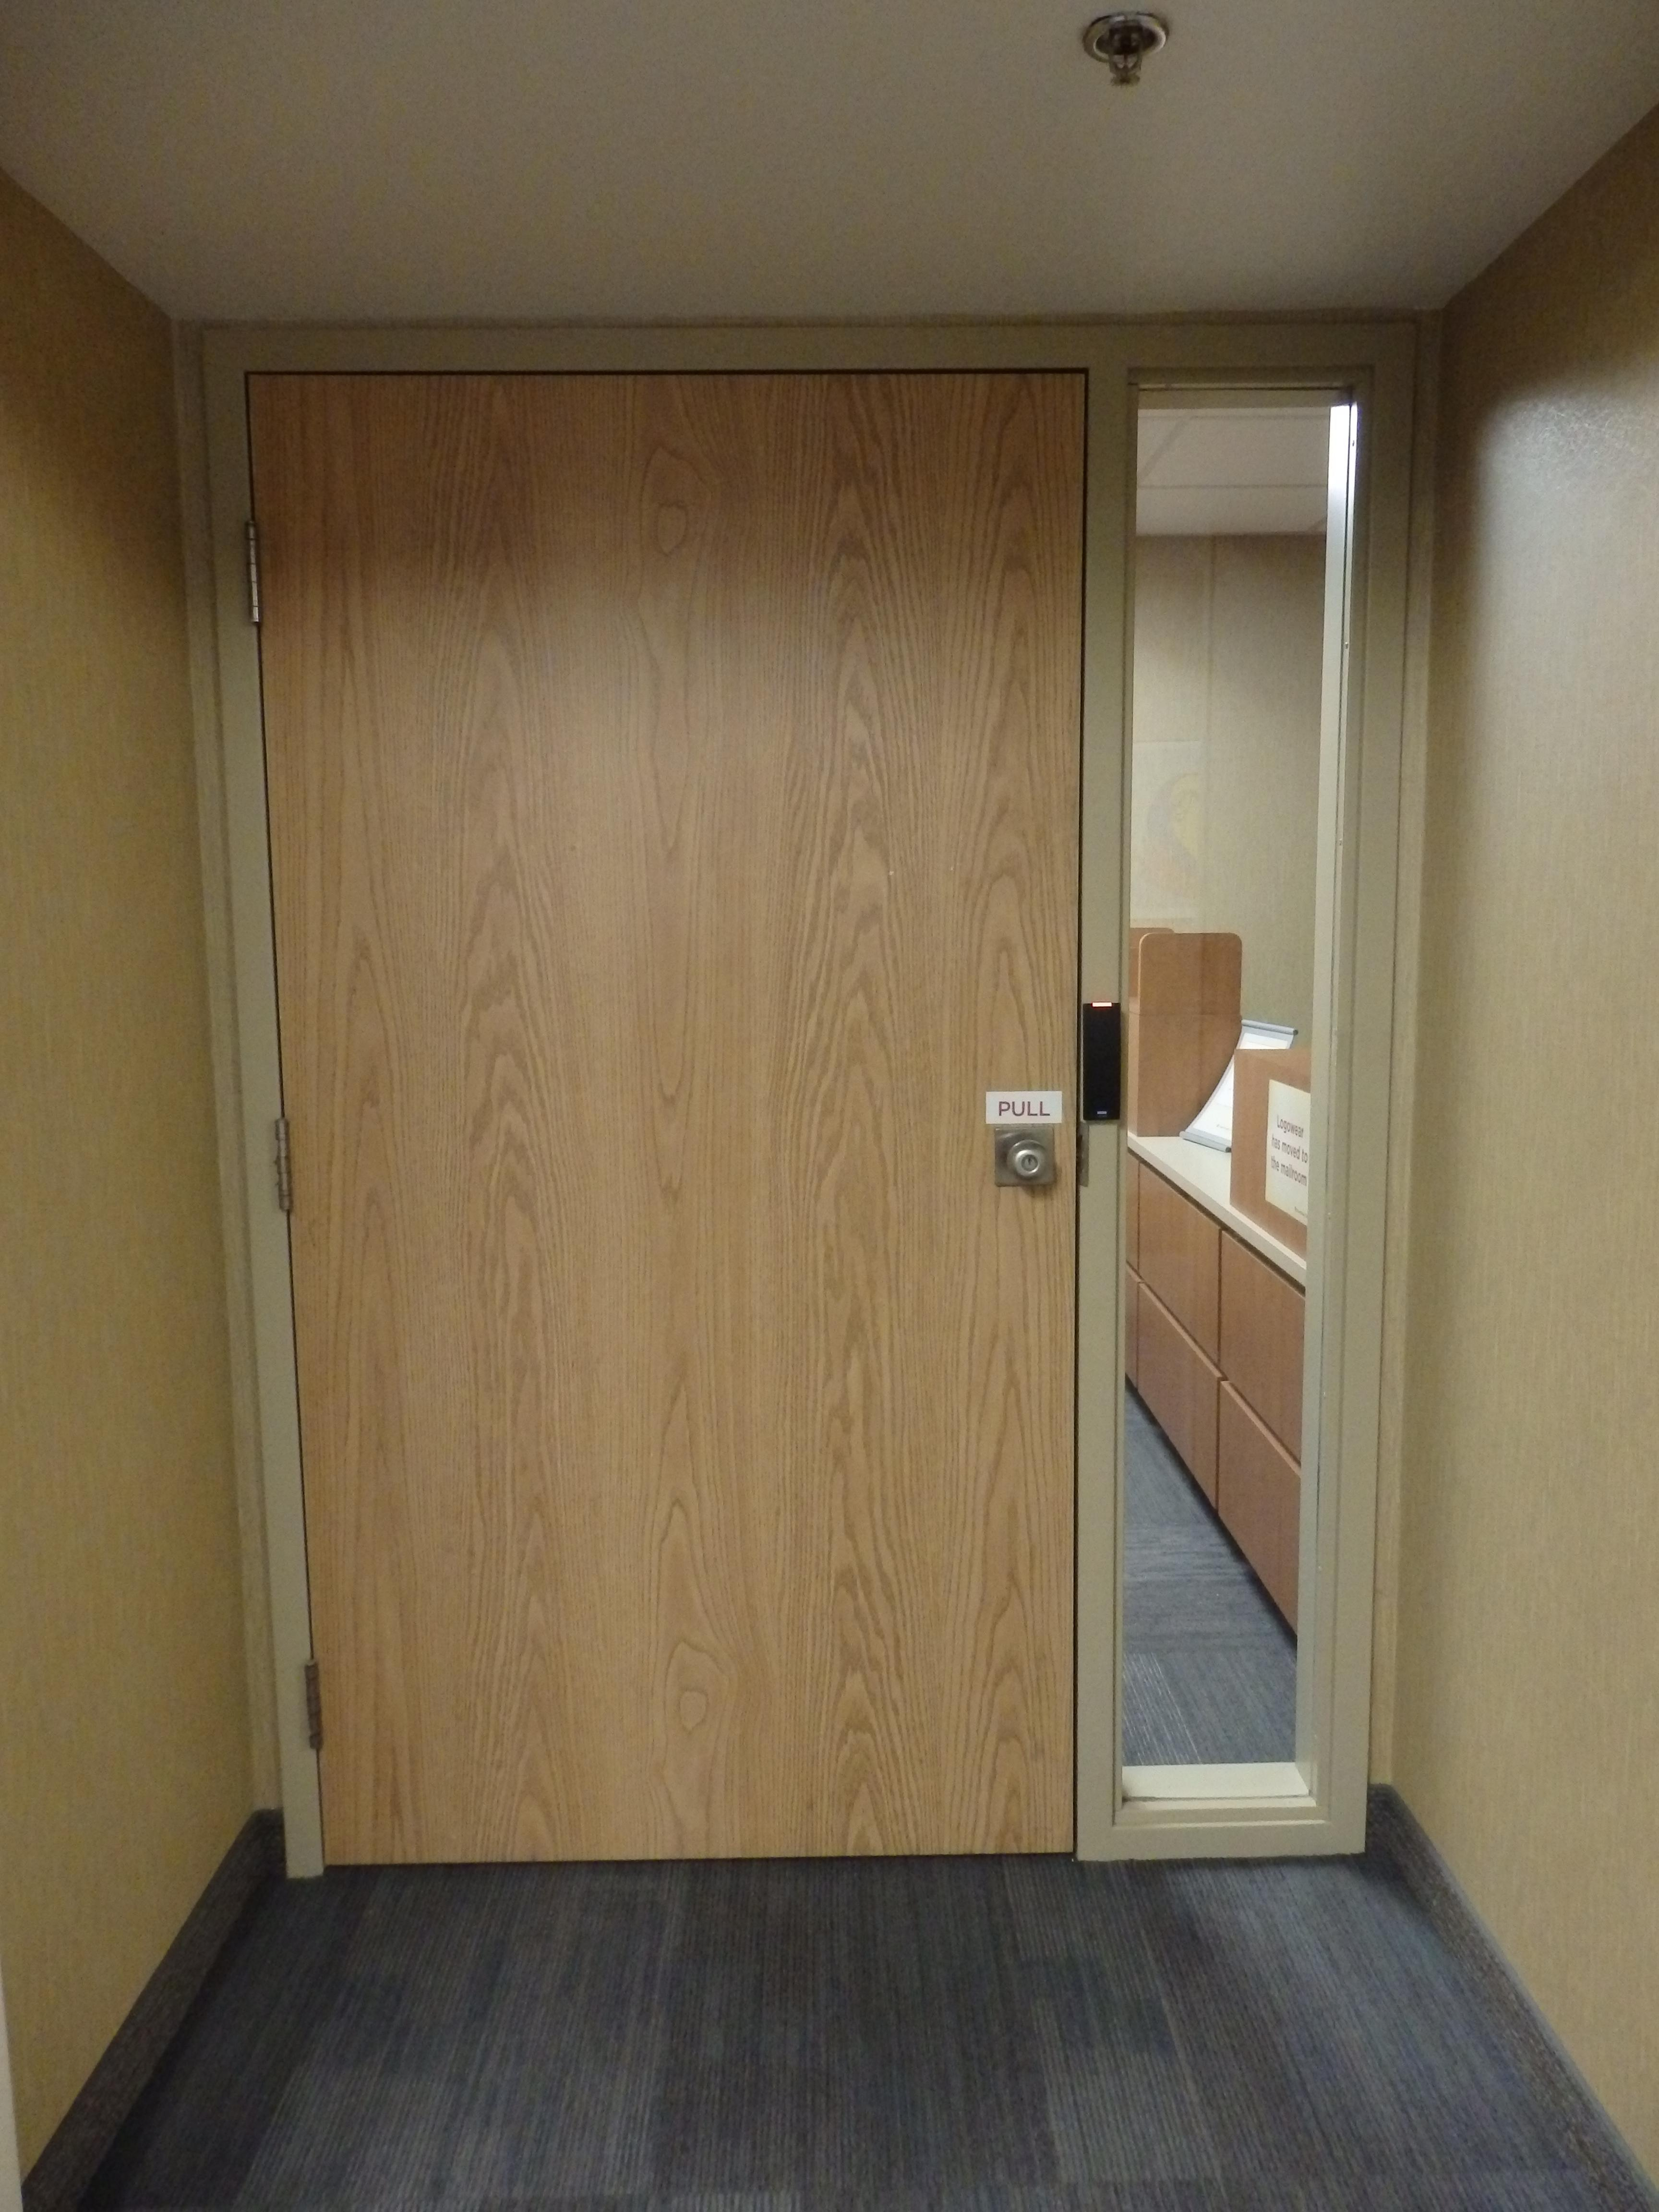door: (204, 322, 1145, 1876)
